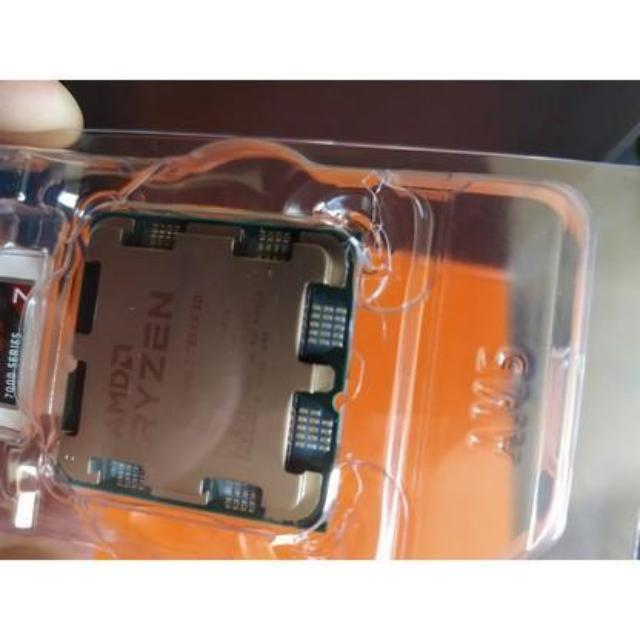CPU: (48, 211, 340, 518)
